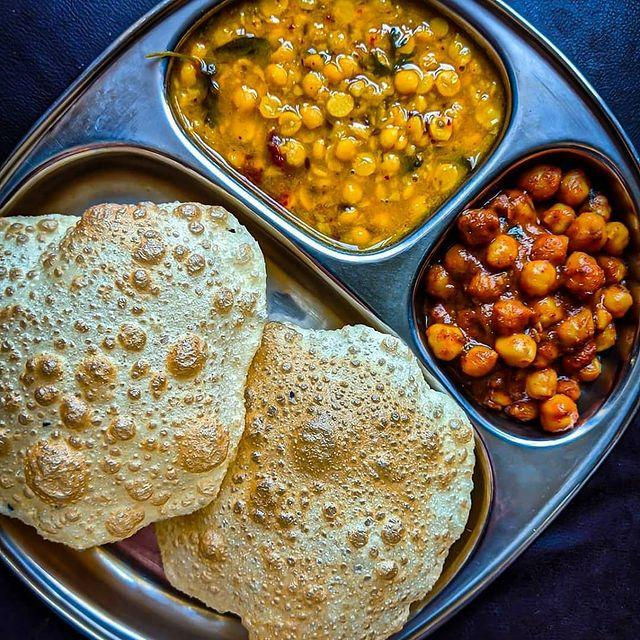Chole: (432, 123, 634, 412)
